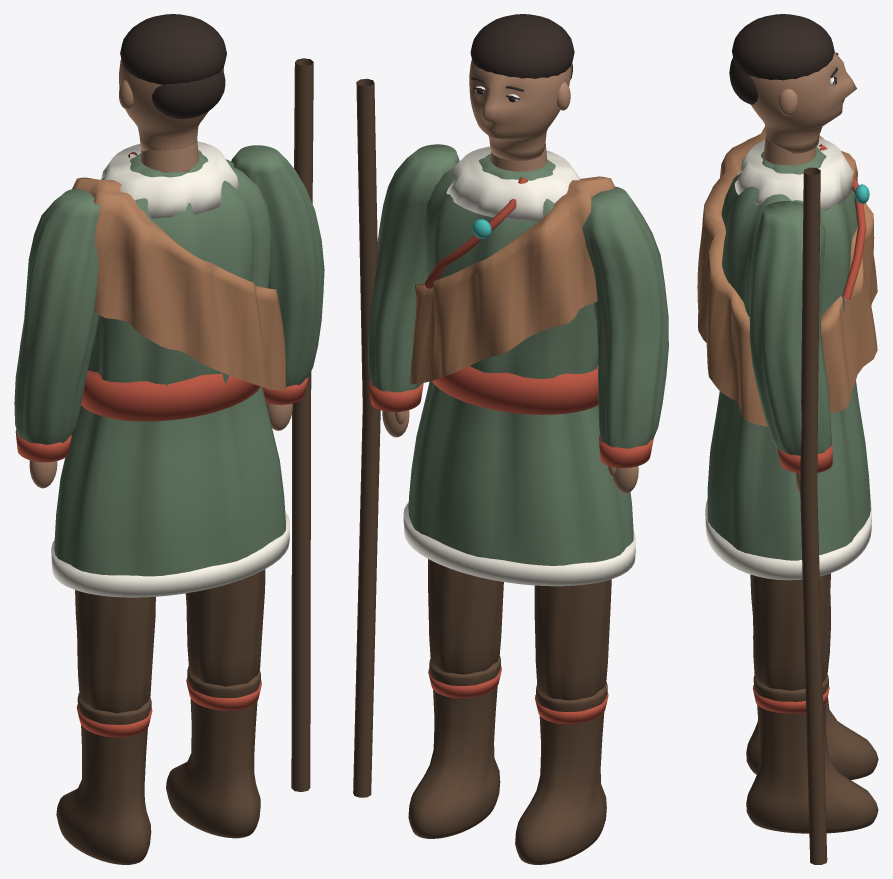
Rendered from Herder.fbx.
The picture shows the model from 3 angles, left to right: view 1: azimuth 30°, elevation 25°; view 2: azimuth 150°, elevation 25°; view 3: azimuth 270°, elevation 25°; orthographic projection. The views are drawn at different scales.
Visible parts, largest first — view 1: Herder; view 2: Herder; view 3: Herder.
Boxes of the visible parts, <box> form: Herder: <box>14,14,324,864</box>; Herder: <box>353,14,668,864</box>; Herder: <box>697,14,878,864</box>.
Size of the model in its own units: 65.82 by 36.26 by 171.
